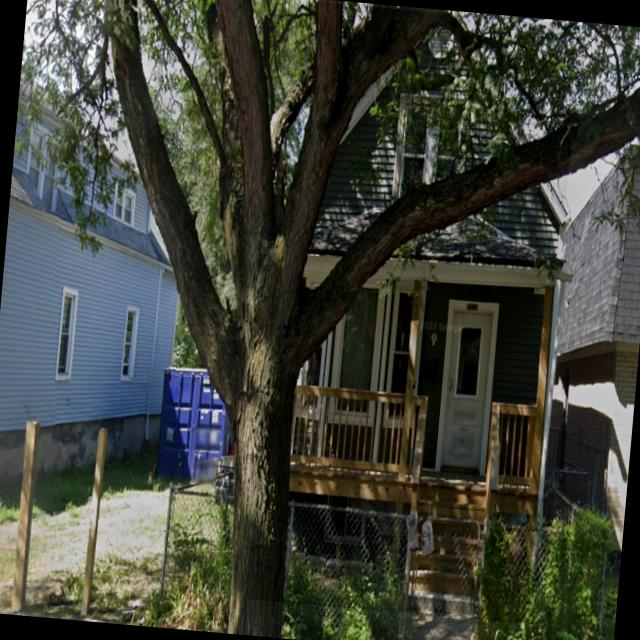House: (245, 0, 586, 624), (0, 74, 199, 488), (534, 140, 640, 561)
